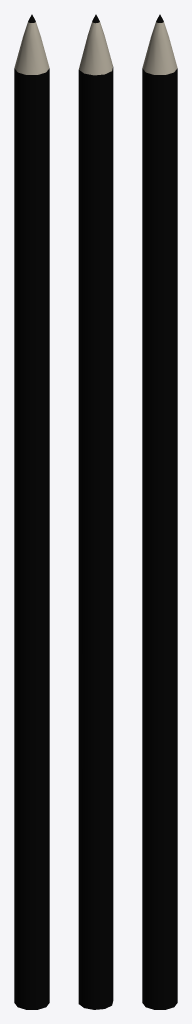
The model's file is pen.fbx.
3 renders of one model, left to right at view 1: azimuth 90°, elevation 25°; view 2: azimuth 210°, elevation 25°; view 3: azimuth 270°, elevation 25°, orthographic.
Visible parts, largest first — view 1: pen; view 2: pen; view 3: pen.
Boxes of the visible parts, box(x1,y1,x2,y2) form: pen: box(14, 14, 49, 1009); pen: box(78, 14, 113, 1009); pen: box(142, 14, 177, 1009).
Bounding box in the file's own units: 0.243 × 7.91 × 0.2555.
